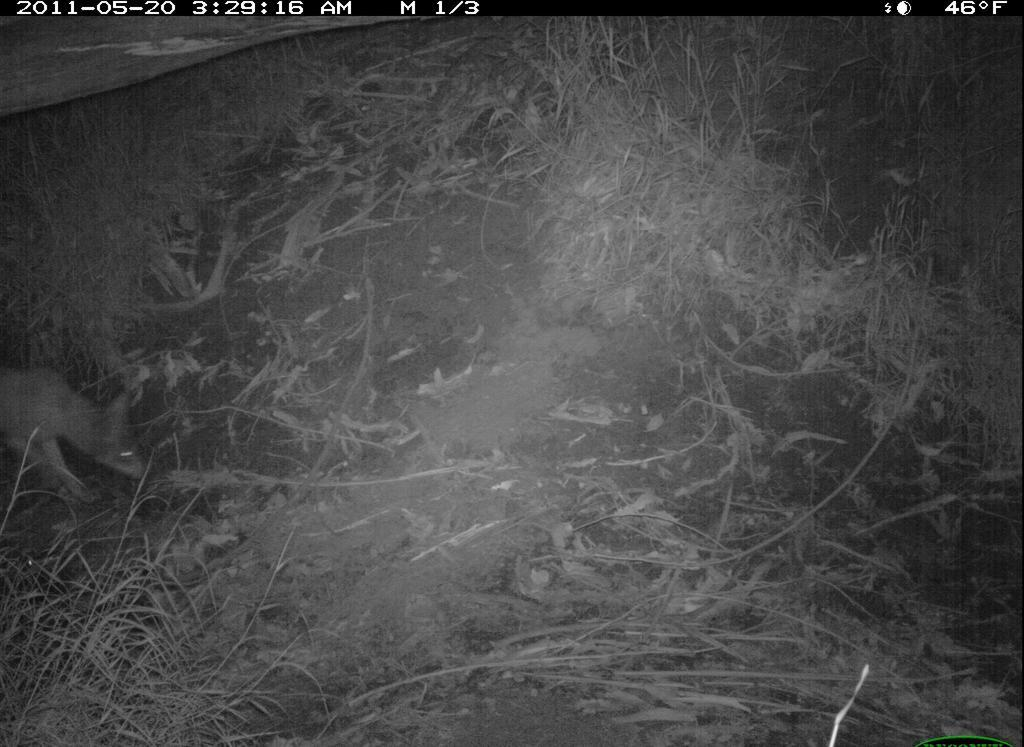coyote: (7, 351, 159, 511)
